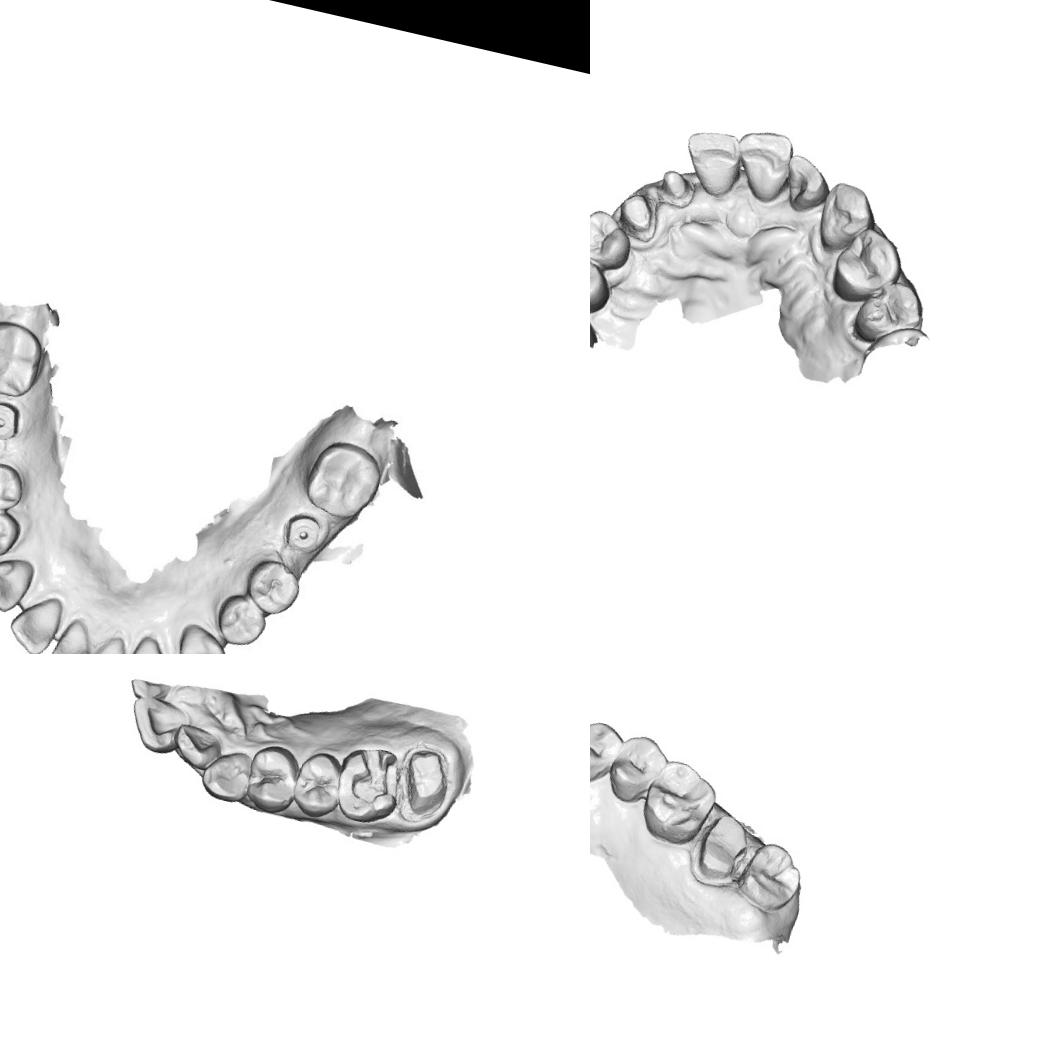canine: (812, 178, 883, 262), (197, 743, 257, 806), (0, 552, 37, 617), (168, 619, 233, 654)
crown: (683, 805, 758, 893), (394, 742, 458, 822), (612, 190, 662, 246), (653, 160, 701, 212)
implant: (280, 510, 327, 556), (0, 398, 27, 445)
incisor: (726, 125, 798, 207), (676, 125, 747, 202), (123, 692, 197, 760), (3, 591, 67, 654), (776, 152, 836, 218), (168, 720, 225, 773), (44, 613, 100, 654), (80, 626, 134, 654), (120, 632, 180, 654)
inlay: (344, 744, 406, 815)
molar: (634, 754, 724, 853), (302, 434, 388, 526), (732, 836, 810, 920), (0, 314, 50, 403)
premolar: (826, 222, 912, 313), (848, 272, 932, 355), (602, 728, 672, 810), (240, 740, 306, 818), (238, 552, 308, 622), (288, 746, 350, 823), (211, 590, 274, 652), (590, 203, 639, 275), (590, 714, 624, 791), (590, 244, 618, 319), (0, 456, 30, 520), (0, 504, 23, 565)
